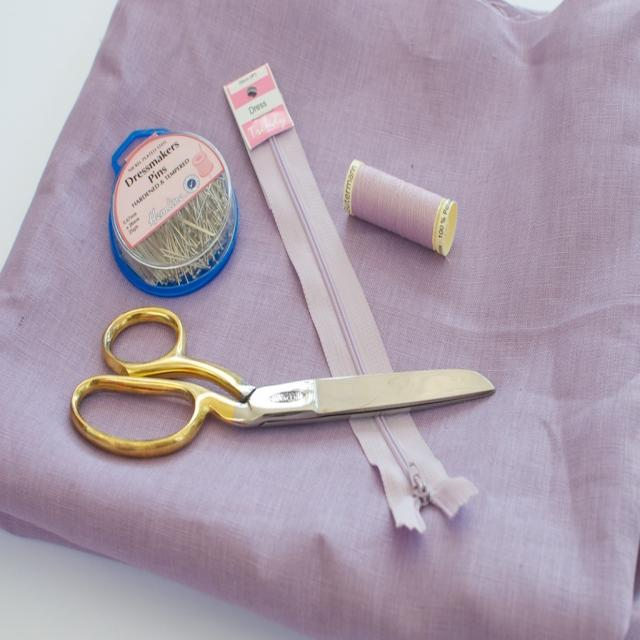scissors: (70, 306, 496, 458)
